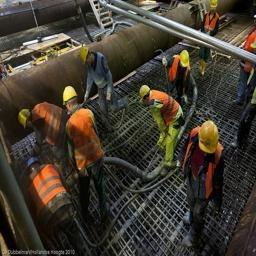hat: (193, 118, 228, 165), (55, 83, 84, 113), (15, 103, 36, 136), (174, 44, 195, 77), (75, 43, 97, 73), (18, 157, 45, 177), (135, 82, 154, 110), (201, 1, 229, 16)
vest: (179, 135, 227, 200), (64, 112, 110, 176), (26, 167, 70, 232), (149, 89, 187, 132), (32, 102, 69, 145), (90, 54, 114, 104), (242, 20, 256, 87), (243, 65, 256, 125), (168, 57, 189, 93), (204, 12, 220, 51)
